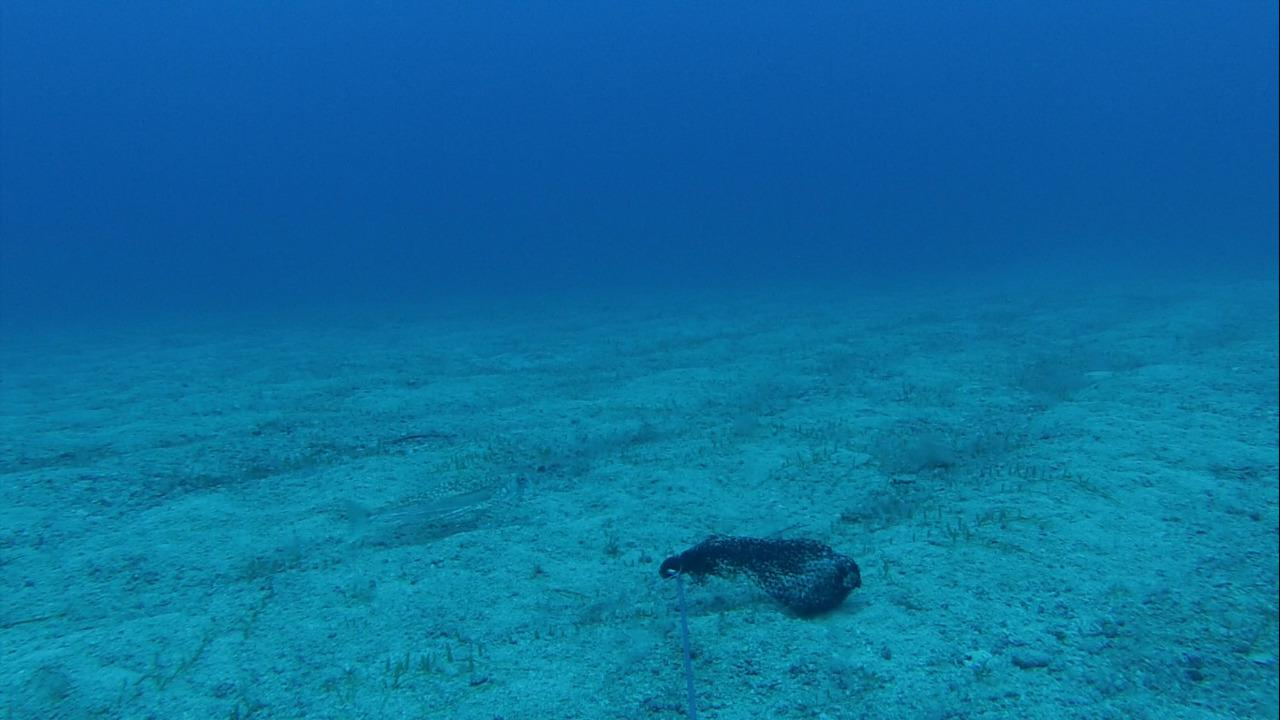dactylopterus: (321, 467, 545, 541)
